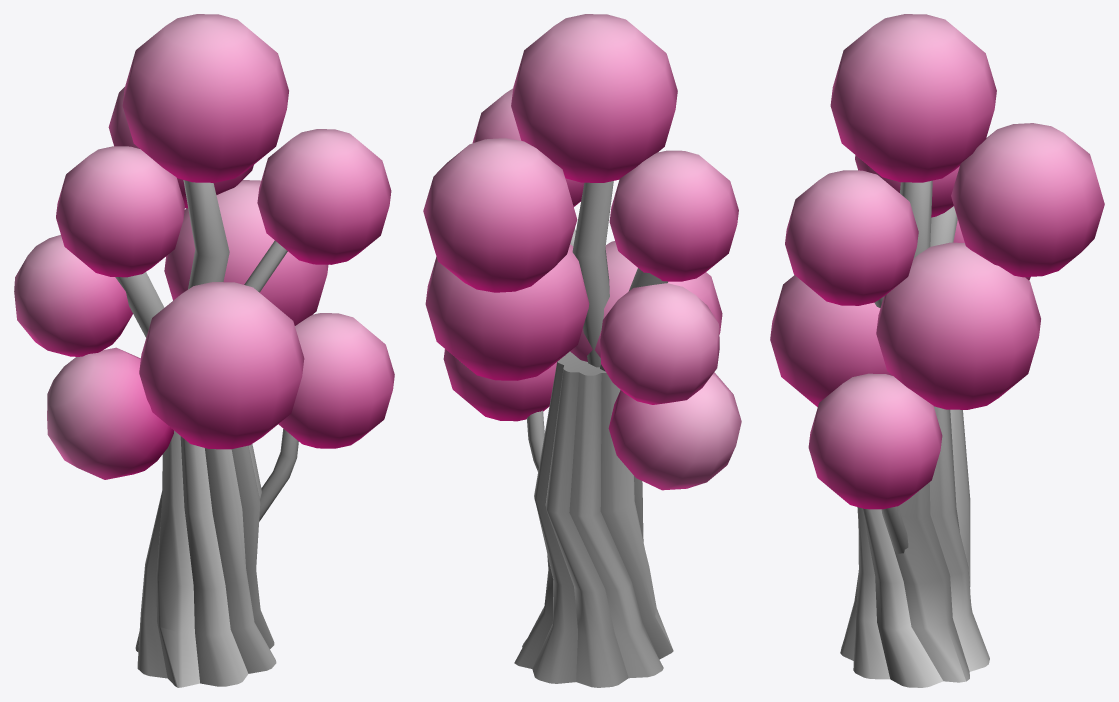
Rendered from Candy_Tree_02.fbx.
3 views of the same model, side by side, from view 1: azimuth 30°, elevation 25°; view 2: azimuth 150°, elevation 25°; view 3: azimuth 270°, elevation 25° (orthographic).
Visible parts, largest first — view 1: Candy_Tree_02; view 2: Candy_Tree_02; view 3: Candy_Tree_02.
Part boxes in pixels (box(x1,y1,x2,y2)): Candy_Tree_02: box(14, 14, 394, 687); Candy_Tree_02: box(423, 14, 741, 687); Candy_Tree_02: box(770, 14, 1104, 687).
Size of the model in its own units: 366 by 713 by 341.
